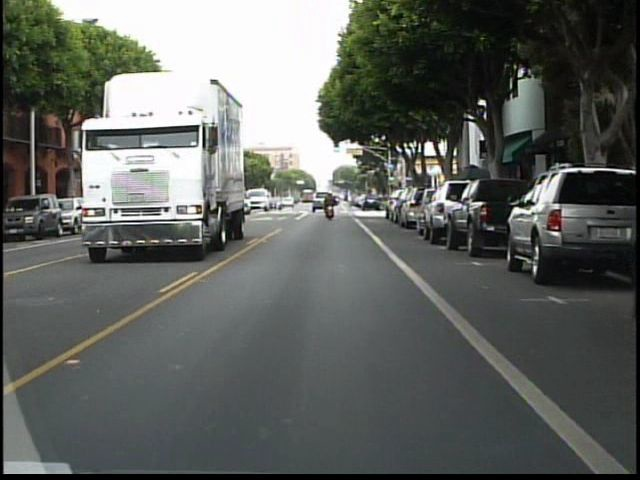person: (324, 192, 337, 223)
